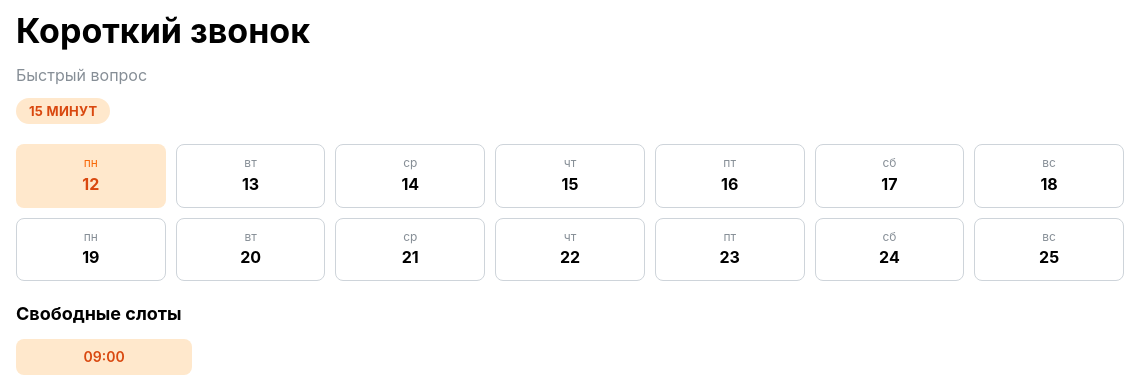
Test: EventTypePage › перезапрашивает слоты при выборе другой даты
Check: the button "09:00" is shown, box [16,339,192,375]
Click the button with aria-label "13 октября, вт". click: (251, 176)
box: [176,144,325,208]
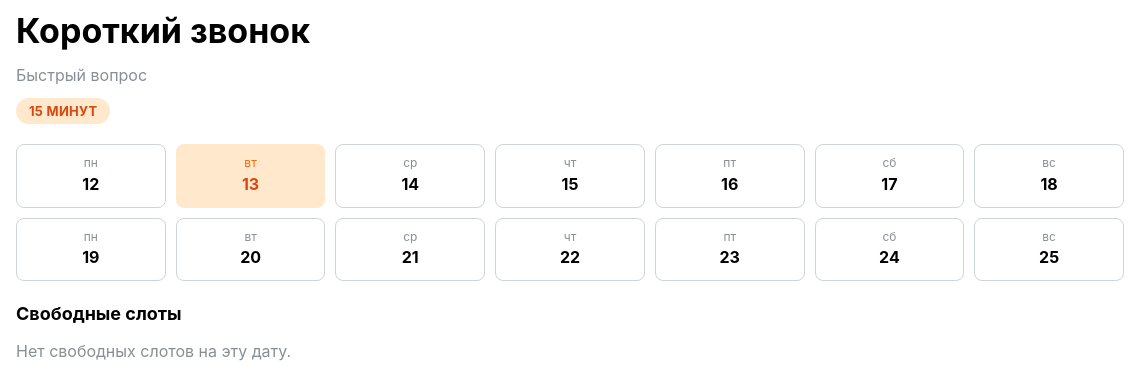
Check: the text "Нет свободных слотов на эту дату." is shown, box [16,341,291,361]
